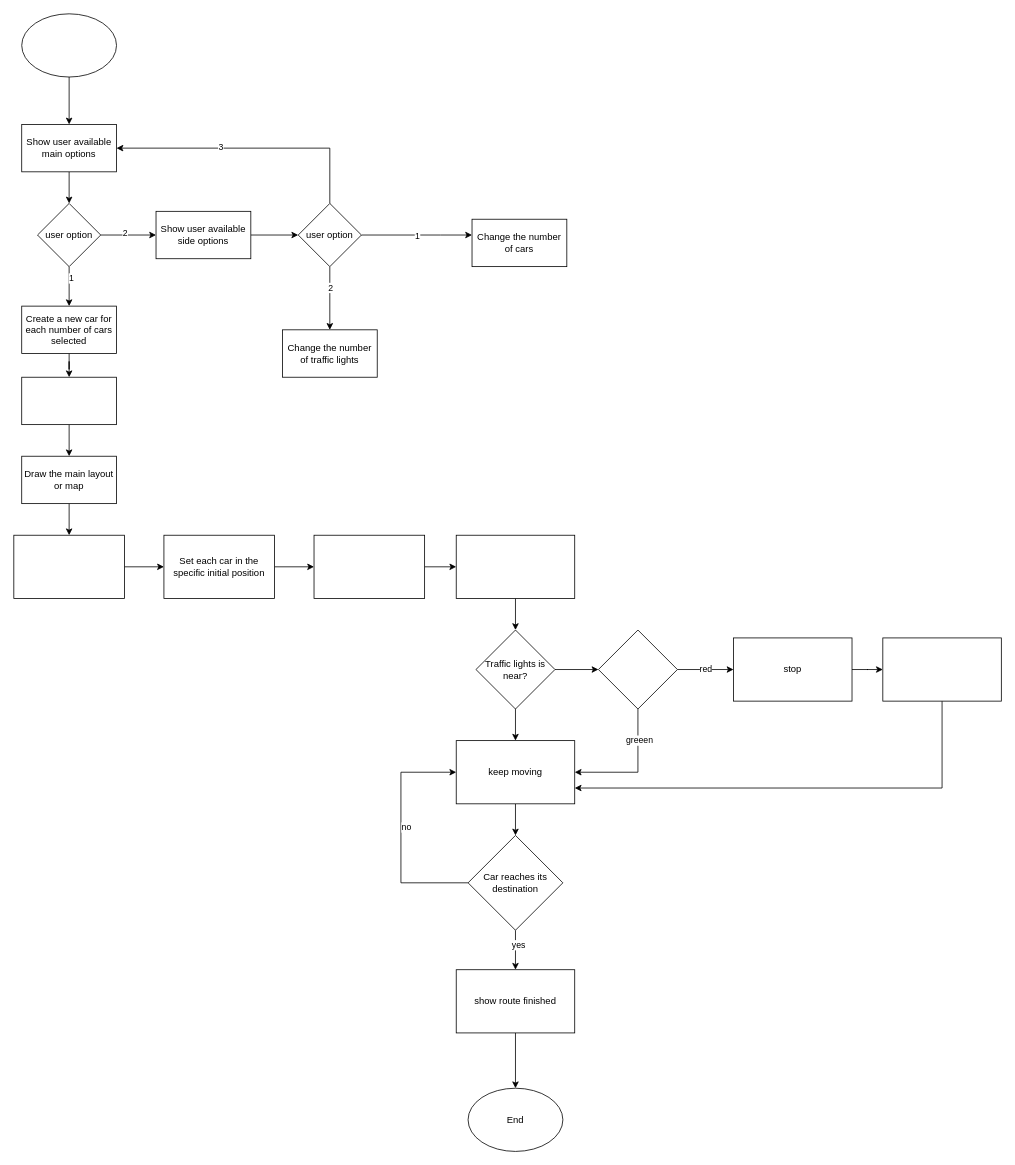
Some shapes in this 1015 by 1165 pixel diagram are drawn without their labels. The centre of each missing label's shape, as x and y in pixels:
"Create a new traffic for each number of traffic lights selected" goes at pixel 69 400.
"Depending on the number of traffic lights draw each traffic light in the map" goes at pixel 68 566.
"Move cars from position a to position b" goes at pixel 515 566.
"Slow speed of card behind" goes at pixel 941 669.
"Start" goes at pixel 69 45.
"Start traffic lights and car routines" goes at pixel 369 566.
"which color is showing" goes at pixel 637 669.
